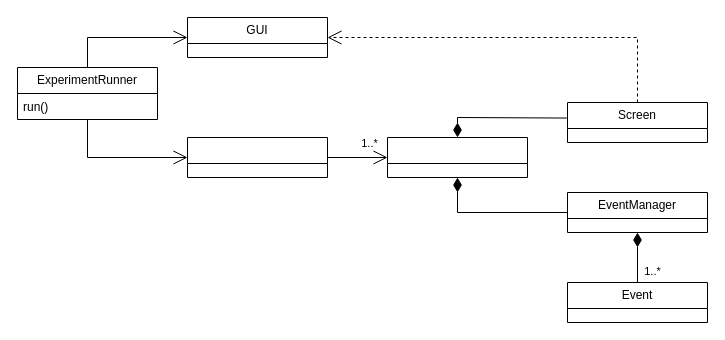
Image size: 725x340. Some labels were removed from this diagram. The centre of each missing label's shape, as x and y in pixels:
EventfulScreen: point (457, 157)
ScreenSequencer: point (257, 157)
